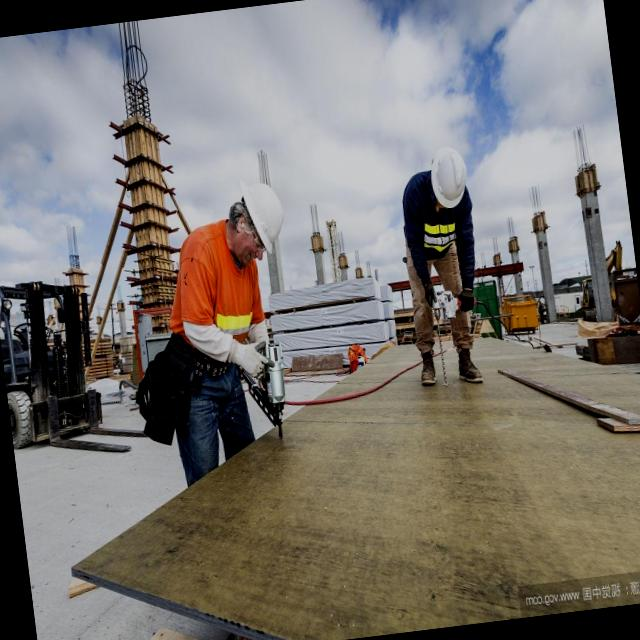helmet: (234, 177, 292, 260), (423, 144, 474, 218)
